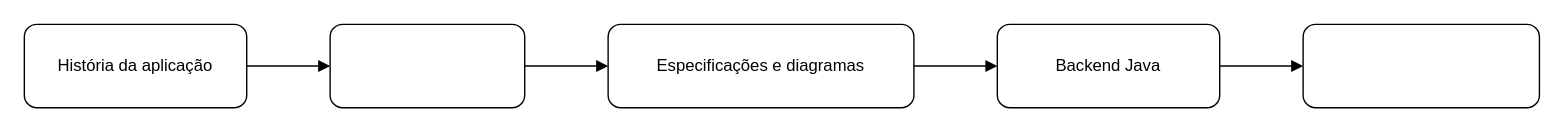
This 1564x132 diagram has some shape labels left out. The centre of each missing label's shape, as x and y in pixels:
Frontend React: the point at 1420,65
Protótipos: the point at 427,65
